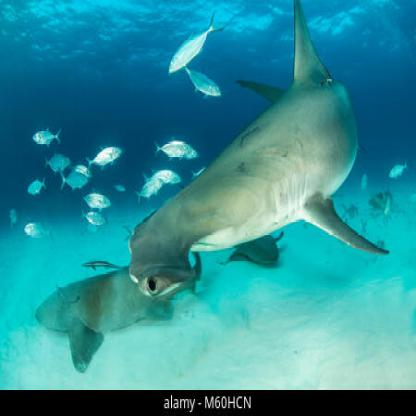hammerhead_Shark: (122, 0, 400, 306)
